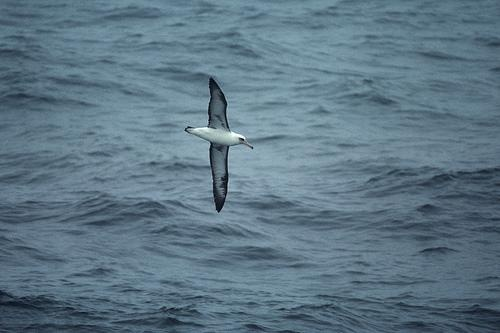bird: (183, 75, 255, 212)
